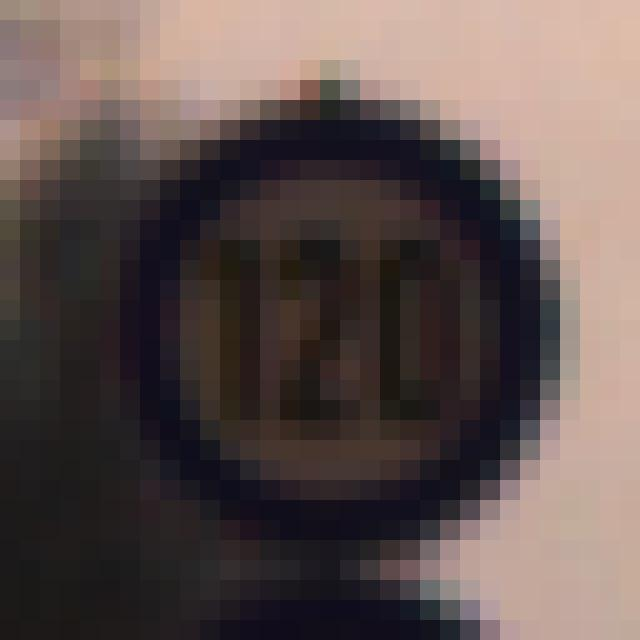SPEED LIMIT 120: (119, 102, 553, 538)
